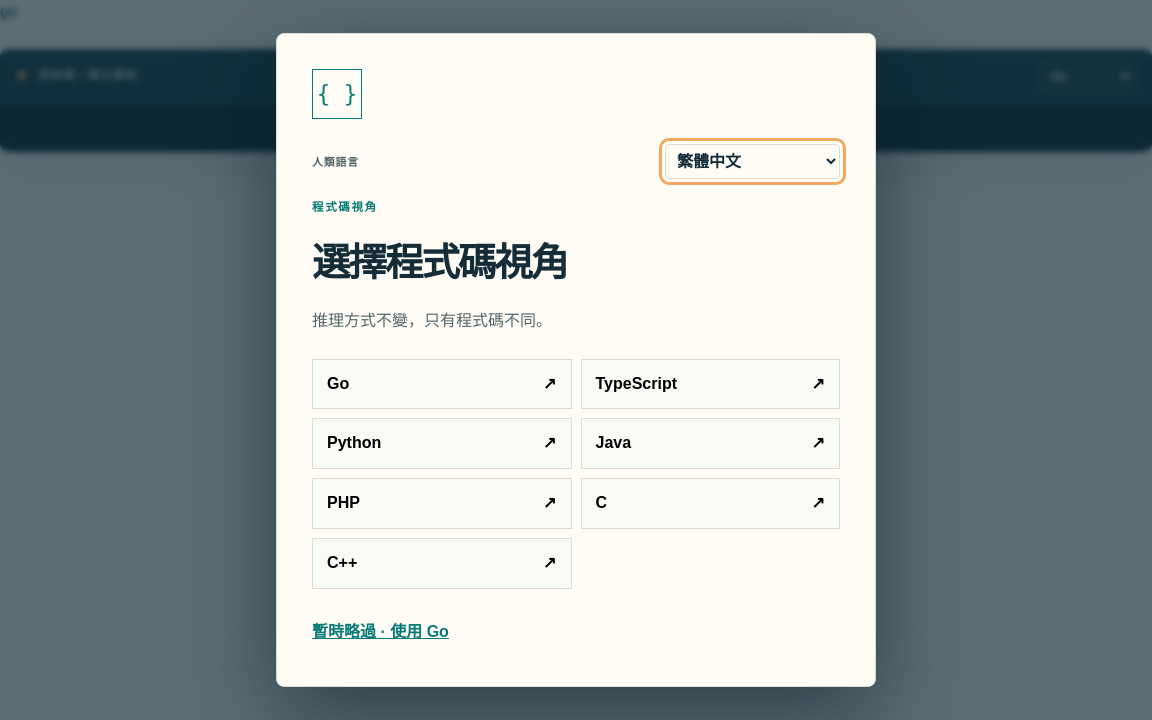
Code Lens preference › prompts on first visit and saves a choice independently of locale
Click the button "PHP ↗" at (442, 504), box [312,478,572,529]
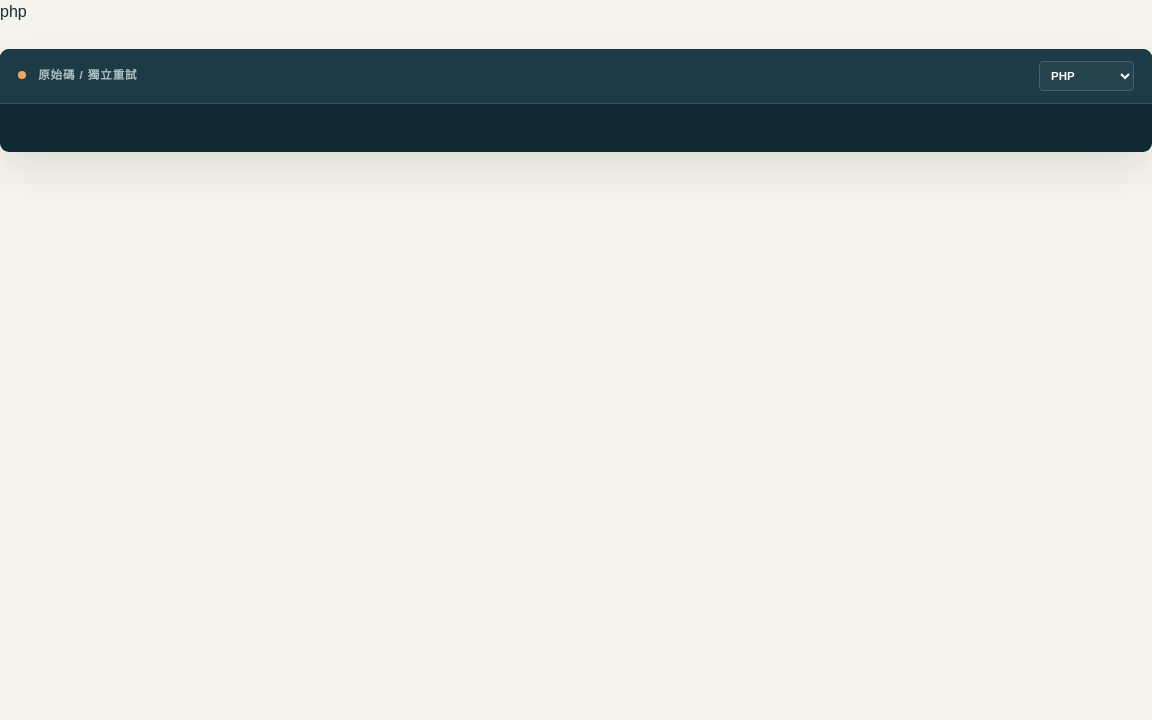
Check: the text with test id "lens" reads "php", box [0,3,27,20]
